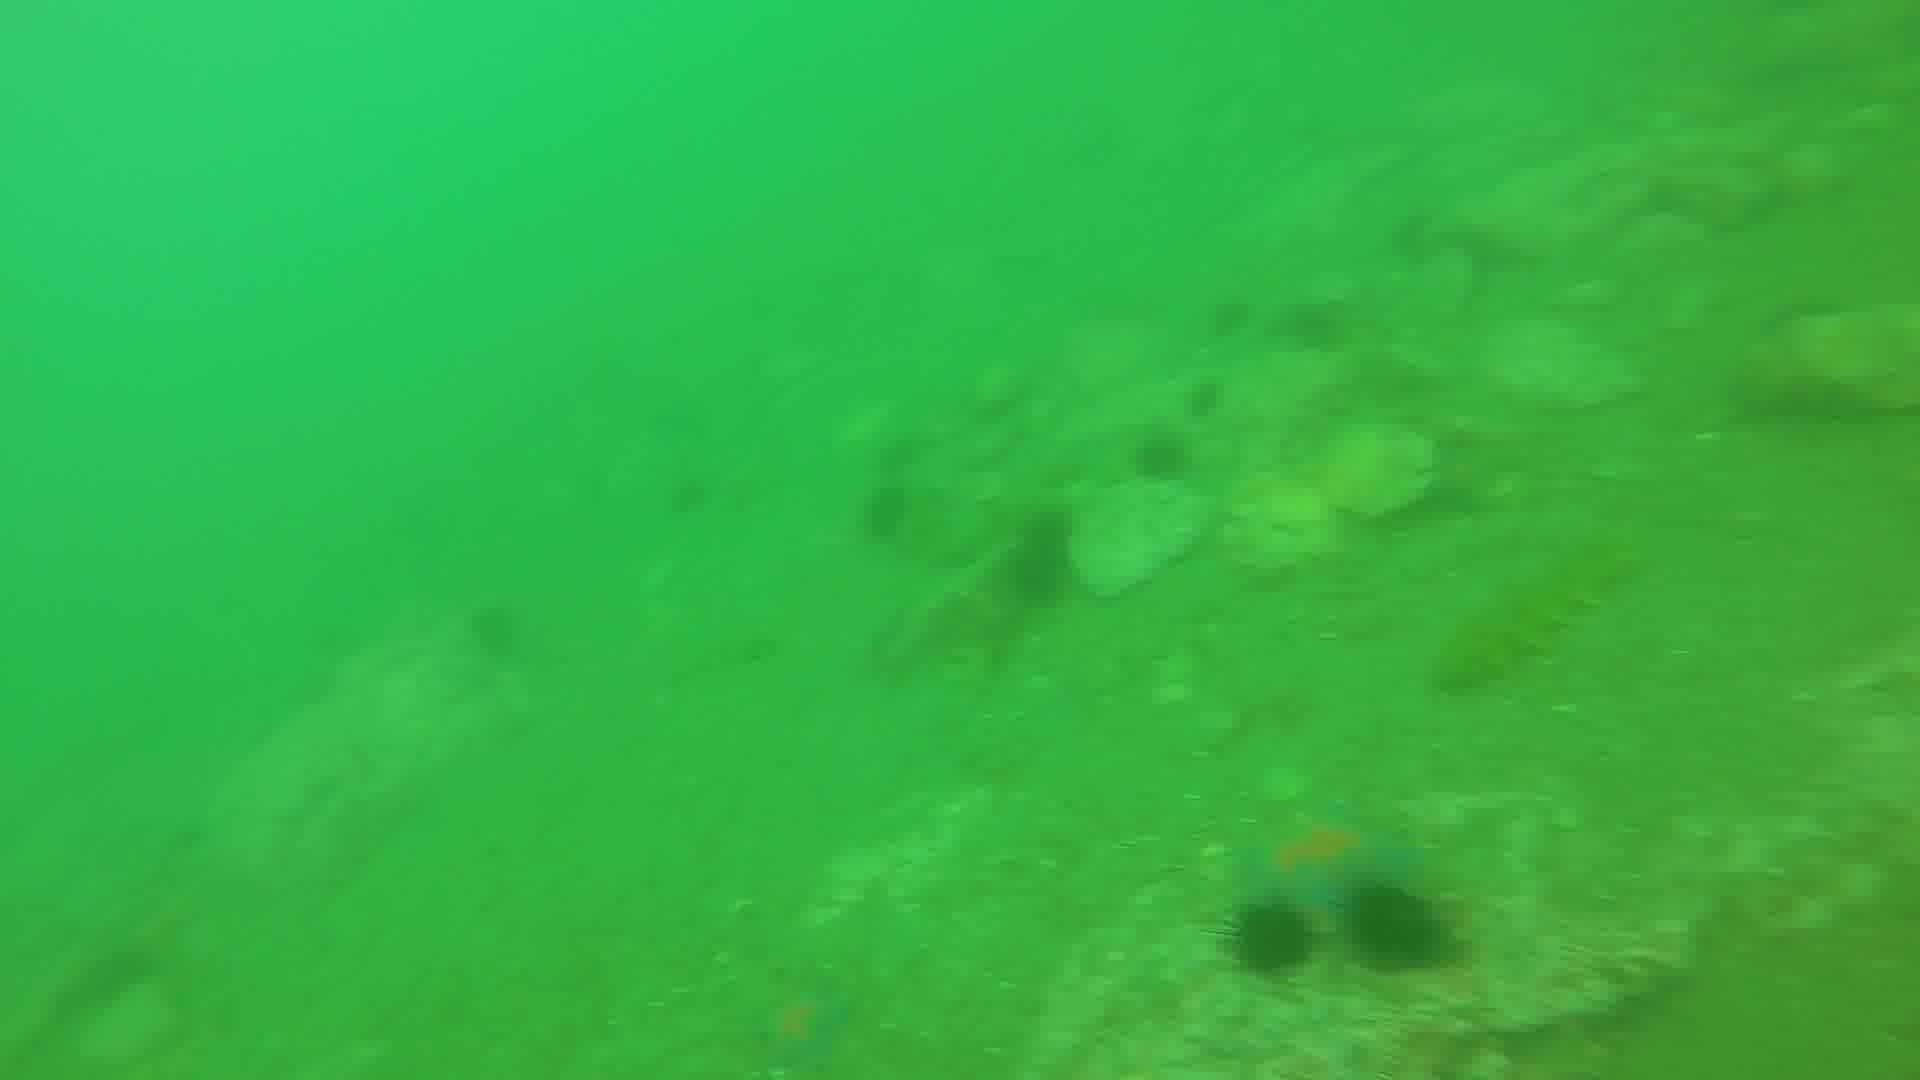echinus: (1341, 880, 1455, 976), (998, 508, 1079, 611), (1221, 897, 1317, 982), (462, 596, 527, 665), (855, 480, 916, 546), (1126, 430, 1195, 487), (1182, 375, 1228, 421)
holothurian: (1427, 530, 1640, 698)
starfish: (1240, 806, 1425, 923), (744, 977, 857, 1072)
